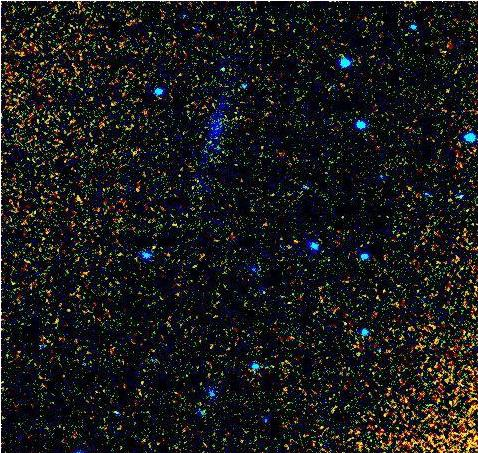star: (239, 255, 269, 285)
